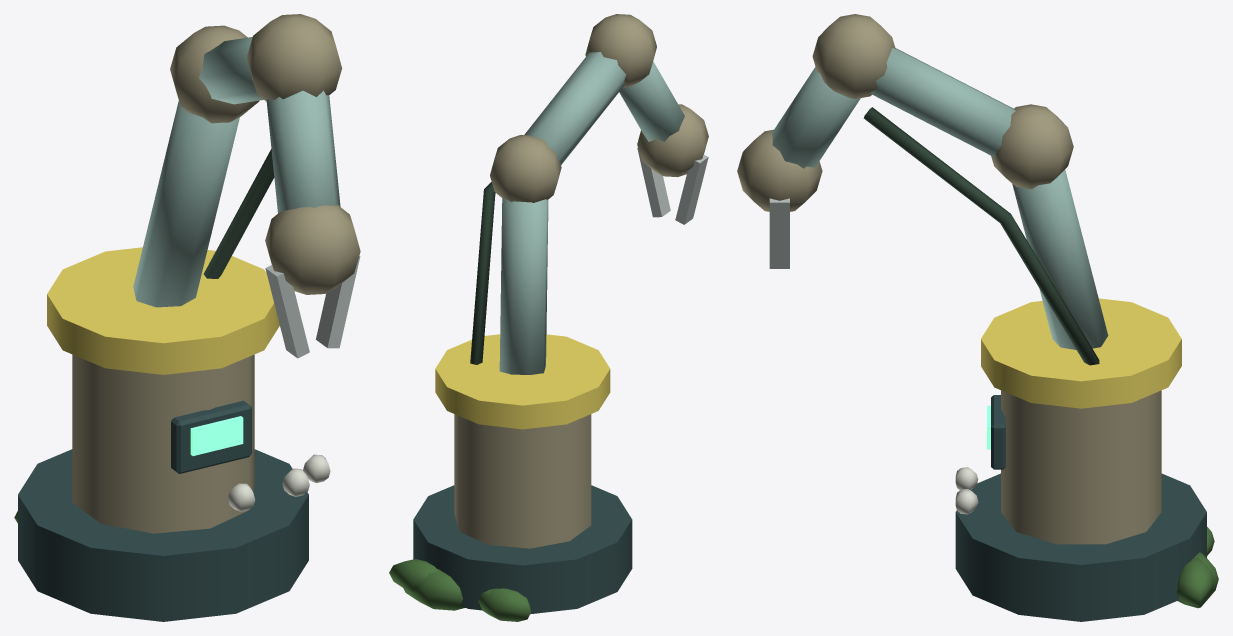
The model's file is dr_arm.glb.
3 views of the same model, side by side, from view 1: azimuth 30°, elevation 25°; view 2: azimuth 150°, elevation 25°; view 3: azimuth 270°, elevation 25° (orthographic). The views are drawn at different scales.
Parts seen in each view (by area): view 1: dr_arm; view 2: dr_arm; view 3: dr_arm.
Boxes of the visible parts, box(x1,y1,x2,y2) form: dr_arm: box(14, 14, 360, 621); dr_arm: box(389, 14, 708, 621); dr_arm: box(737, 14, 1218, 621).
Size of the model in its own units: 1 by 2.48 by 1.92.
